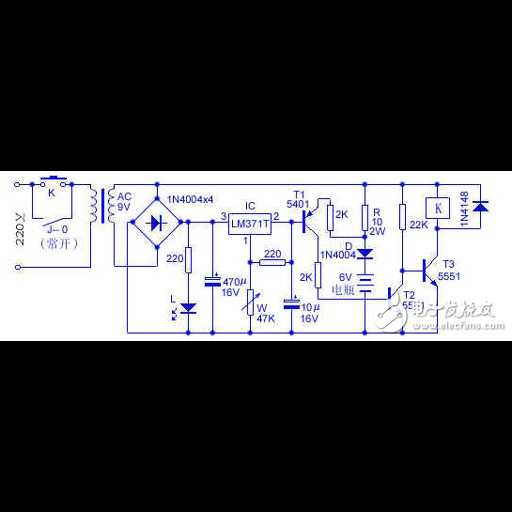battery: (356, 270, 376, 296)
firstdiode: (178, 299, 198, 317), (471, 198, 493, 214), (355, 246, 376, 261)
firstresistance: (183, 244, 195, 278), (395, 201, 408, 232), (312, 261, 326, 289), (357, 203, 370, 232), (255, 257, 288, 268), (324, 203, 336, 232)
npn: (416, 252, 439, 290), (382, 281, 404, 319)
pnp: (295, 207, 321, 239)
transformer: (87, 182, 117, 228)
